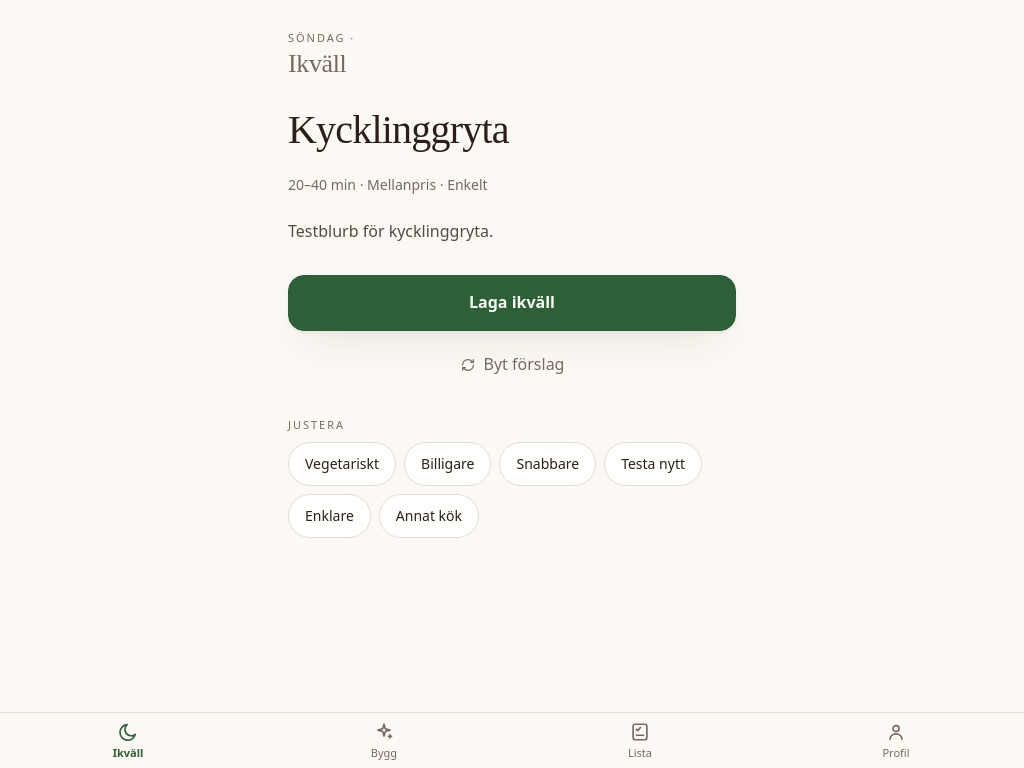
Test case: App — adjustment chips › sends the vegetarian filter as a query parameter and keeps the chip pressed
Expected: the heading "Kycklinggryta" is shown, [288,107,509,152]
Step 1. Click the button "Vegetariskt" → click(342, 464), box [288,442,396,486]
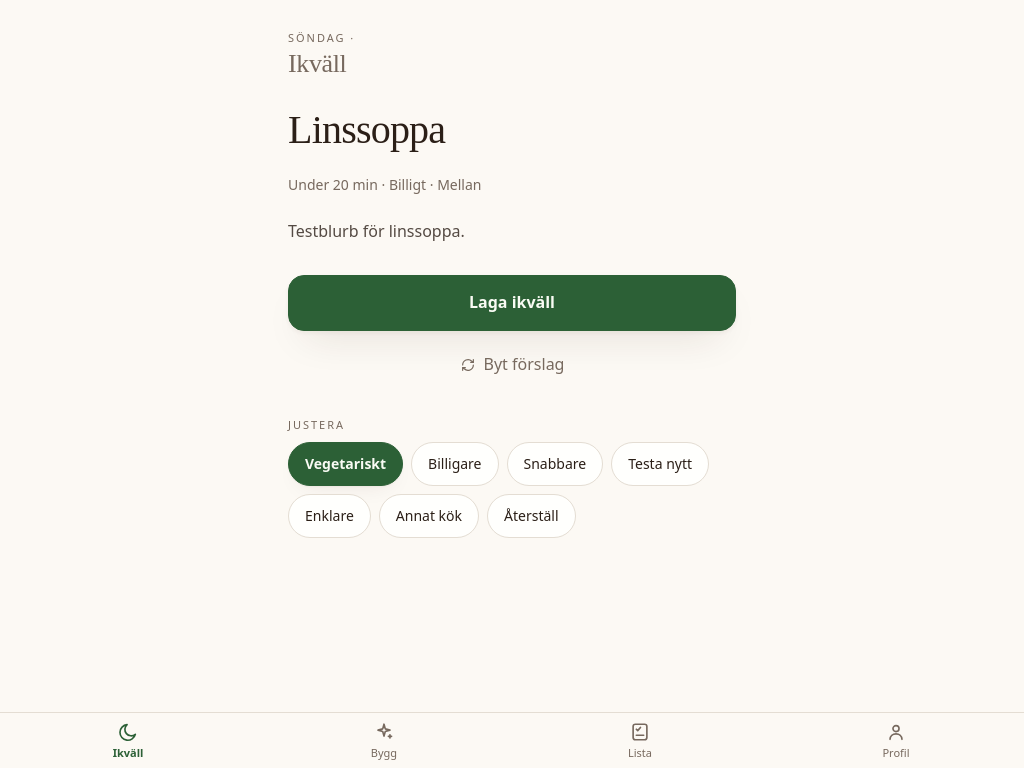
Result: the heading "Linssoppa" is shown at [288,107,445,152]
